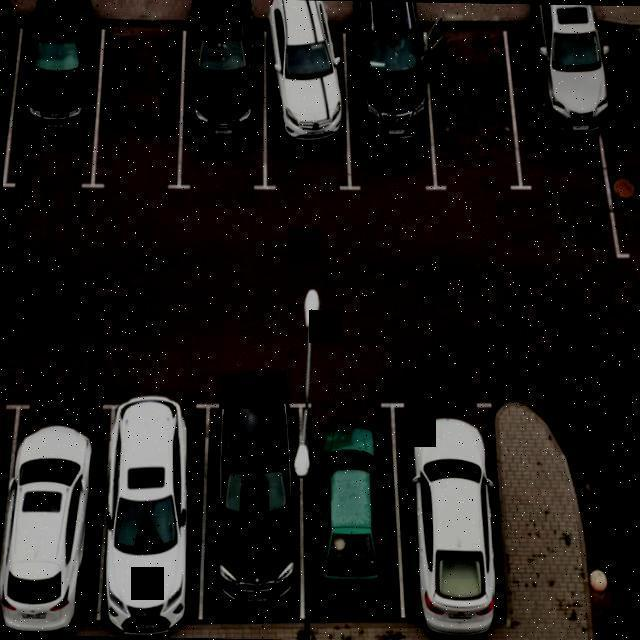space-empty: (429, 17, 523, 194), (97, 12, 185, 189)
space-occupied: (395, 390, 510, 630), (0, 383, 107, 633), (296, 393, 406, 630), (202, 386, 307, 623), (106, 388, 204, 628), (8, 8, 102, 188), (262, 20, 354, 196), (349, 18, 441, 194), (513, 7, 599, 194), (181, 23, 271, 194), (0, 399, 23, 634), (3, 5, 16, 186)
